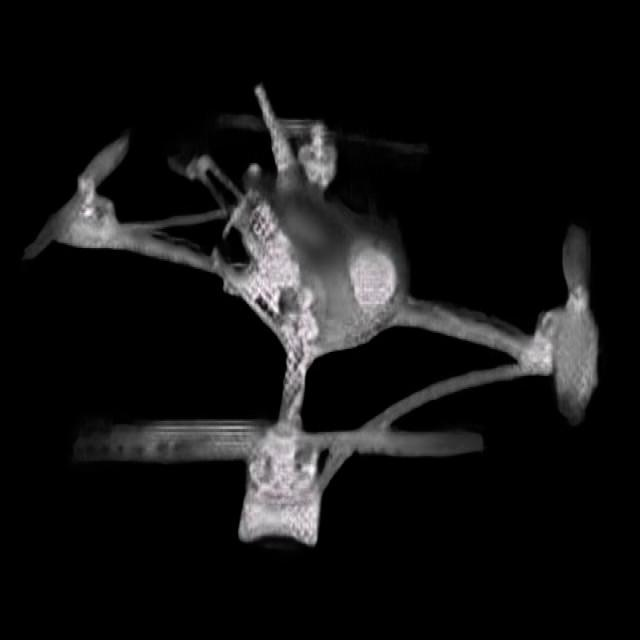drone: (19, 79, 632, 550)
